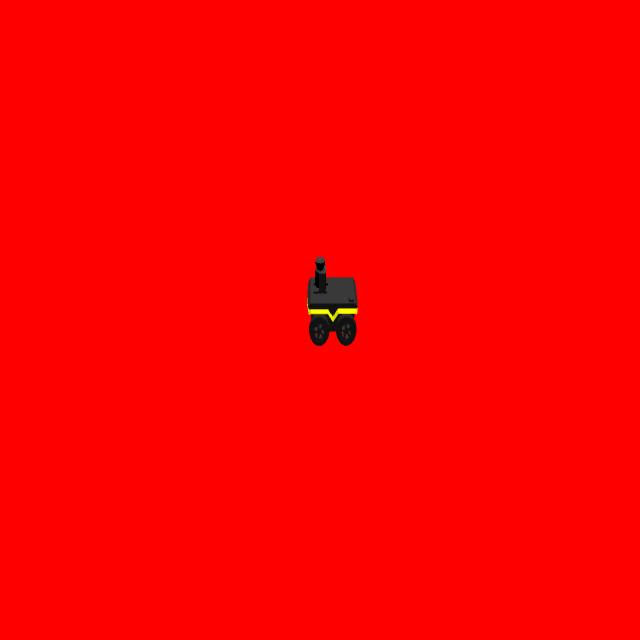jackal: (306, 253, 360, 349)
